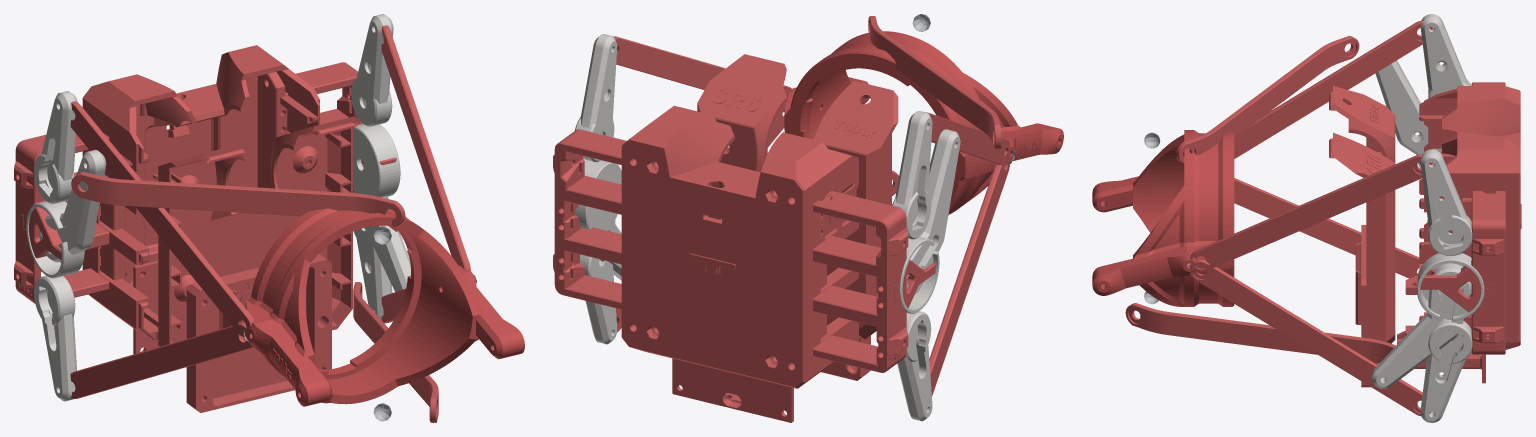
Rendered from ORS6_truth.glb.
The picture shows the model from 3 angles, left to right: view 1: azimuth 30°, elevation 25°; view 2: azimuth 150°, elevation 25°; view 3: azimuth 270°, elevation 25°; orthographic projection. The views are drawn at different scales.
Visible parts, largest first — view 1: Receiver, Base, Lid, Shield, Rod_LeftPitch, L_Frame, Rod_LowerLeft, Rod_UpperLeft, R_Frame, R_Pitcher, L_Pitcher, Rod_LowerRight (+7 smaller); view 2: Base, Lid, L_Frame, Receiver, R_Frame, Tray, L_Pitcher, Rod_LeftPitch, Rod_UpperLeft, Arm_LowerLeft, Arm_LowerRight, Rod_LowerRight (+5 smaller); view 3: Receiver, Base, Lid, R_Frame, Rod_LowerRight, Rod_UpperRight, Rod_RightPitch, R_Pitcher, Rod_LowerLeft, Rod_LeftPitch, Arm_LowerRight, Arm_UpperRight (+5 smaller).
Boxes of the visible parts, <box> form: Receiver: <box>245,208,524,406</box>; Base: <box>82,45,319,341</box>; Lid: <box>158,116,359,346</box>; Shield: <box>186,254,331,412</box>; Rod_LeftPitch: <box>71,172,405,226</box>; L_Frame: <box>14,133,125,303</box>; Rod_LowerLeft: <box>70,101,254,337</box>; Rod_UpperLeft: <box>70,323,252,398</box>; R_Frame: <box>257,62,396,193</box>; R_Pitcher: <box>353,124,410,291</box>; L_Pitcher: <box>26,149,106,278</box>; Rod_LowerRight: <box>381,25,471,271</box>; Base: <box>621,105,858,388</box>; Lid: <box>697,54,898,339</box>; L_Frame: <box>813,191,935,372</box>; Receiver: <box>784,31,1063,214</box>; R_Frame: <box>553,129,626,309</box>; Tray: <box>672,358,793,422</box>; L_Pitcher: <box>899,129,960,313</box>; Rod_LeftPitch: <box>868,16,1001,149</box>; Rod_UpperLeft: <box>929,151,1010,395</box>; Arm_LowerLeft: <box>892,111,932,239</box>; Arm_LowerRight: <box>574,34,617,162</box>; Rod_LowerRight: <box>613,36,793,112</box>; Receiver: <box>1092,130,1234,306</box>; Base: <box>1405,86,1520,349</box>; Lid: <box>1329,86,1395,343</box>; R_Frame: <box>1418,191,1505,354</box>; Rod_LowerRight: <box>1190,154,1433,271</box>; Rod_UpperRight: <box>1190,259,1430,415</box>; Rod_RightPitch: <box>1125,303,1396,363</box>; R_Pitcher: <box>1372,253,1484,388</box>; Rod_LowerLeft: <box>1234,20,1433,158</box>; Rod_LeftPitch: <box>1176,36,1359,163</box>; Arm_LowerRight: <box>1420,149,1472,255</box>; Arm_UpperRight: <box>1420,318,1472,422</box>.
Bounding box in the file's own units: 233 × 190 × 267.
